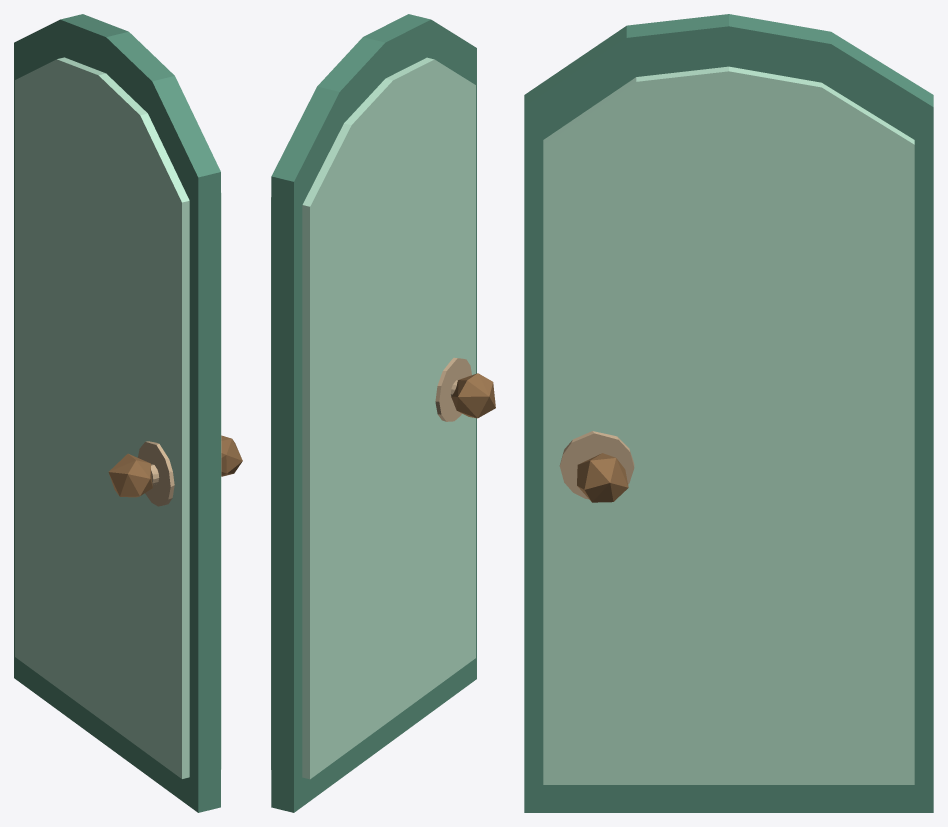
File: door.fbx
3 renders of one model, left to right at view 1: azimuth 30°, elevation 25°; view 2: azimuth 150°, elevation 25°; view 3: azimuth 270°, elevation 25°, orthographic. The views are drawn at different scales.
Visible parts, largest first — view 1: Cube.002, Cube, Sphere, Cylinder, Sphere.001, Cube.001; view 2: Cube.002, Cube, Sphere, Cylinder, Cube.001; view 3: Cube.001, Cube, Cylinder.003, Sphere.001.
Part boxes in pixels (bbox=[...]): Cube.002: bbox=[15, 57, 189, 778]; Cube: bbox=[14, 14, 220, 812]; Sphere: bbox=[108, 453, 152, 497]; Cylinder: bbox=[138, 441, 174, 506]; Sphere.001: bbox=[221, 435, 242, 476]; Cube.001: bbox=[221, 192, 221, 769]; Cube.002: bbox=[302, 57, 475, 779]; Cube: bbox=[271, 14, 476, 812]; Sphere: bbox=[451, 373, 495, 418]; Cylinder: bbox=[435, 357, 471, 421]; Cube.001: bbox=[271, 197, 271, 769]; Cube.001: bbox=[543, 66, 914, 784]; Cube: bbox=[524, 14, 933, 812]; Cylinder.003: bbox=[559, 431, 634, 499]; Sphere.001: bbox=[577, 453, 628, 502].
Bounding box in the file's own units: 203 × 1085 × 511.
